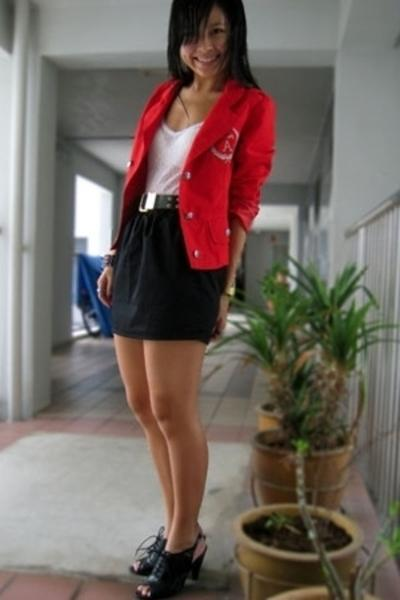jacket: (121, 81, 275, 269)
shirt: (139, 123, 202, 211)
shoe: (132, 534, 185, 599)
skirt: (108, 208, 220, 343)
